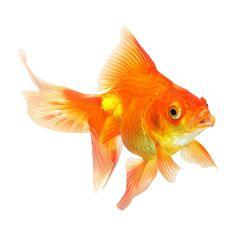goldfish: (65, 57, 225, 187)
